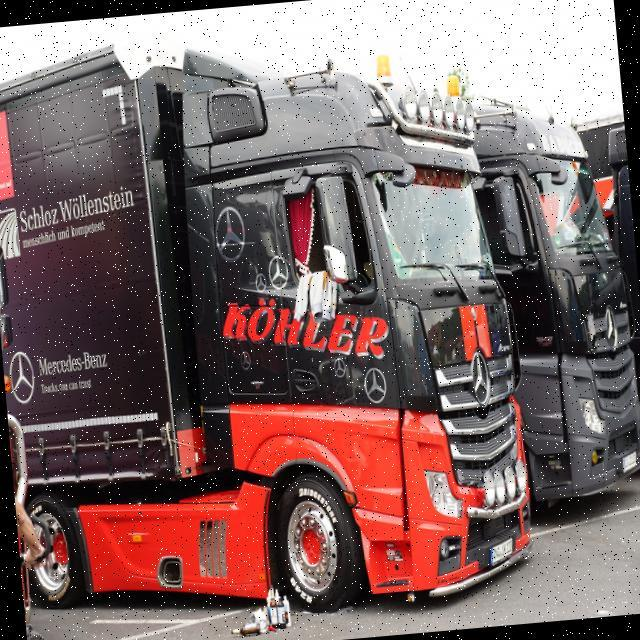Kohler: (219, 283, 391, 371)
